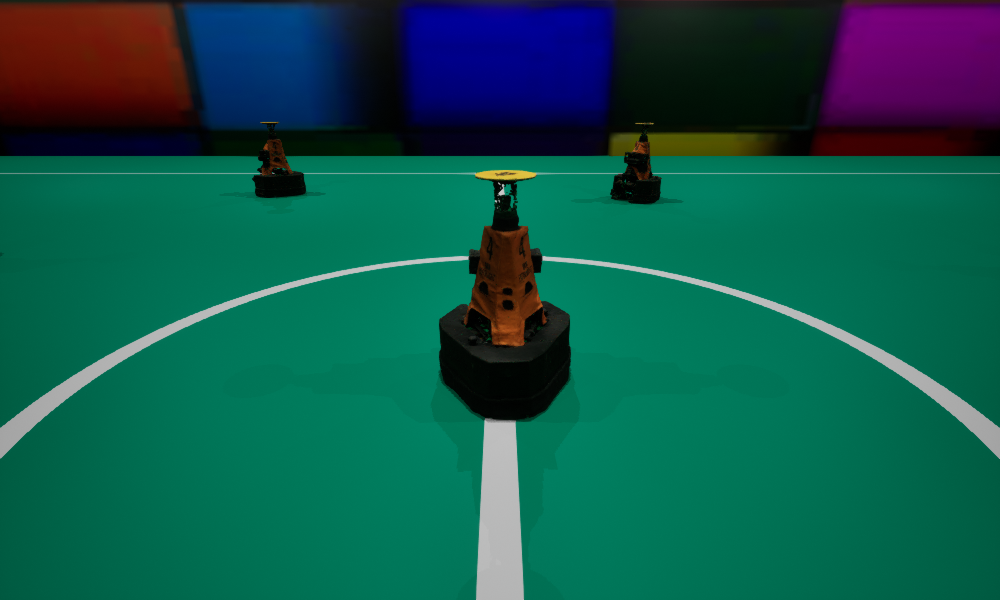o: (439, 170, 570, 419), (610, 123, 661, 202), (252, 122, 305, 197)
